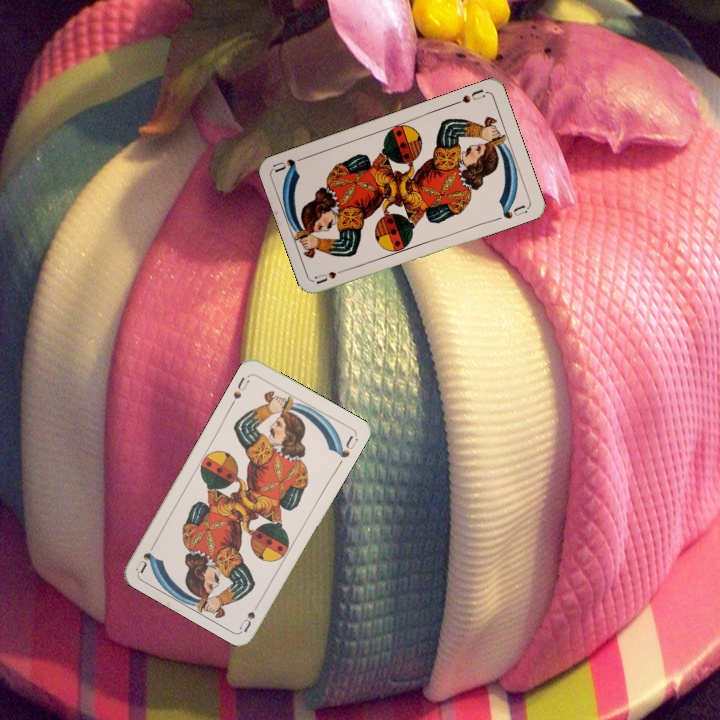SU: (236, 595, 264, 634), (450, 85, 489, 108), (311, 264, 351, 286), (227, 373, 252, 408)
